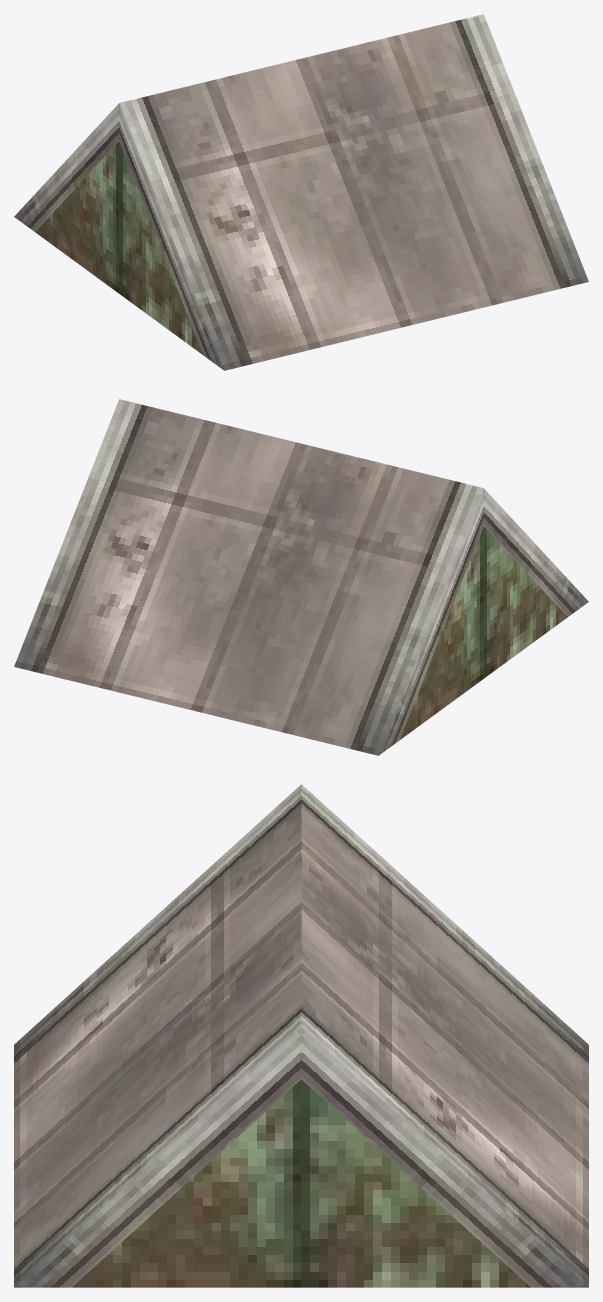
File: wall-b-roof.glb
The picture shows the model from 3 angles, top to bottom: view 1: azimuth 30°, elevation 25°; view 2: azimuth 150°, elevation 25°; view 3: azimuth 270°, elevation 25°; orthographic projection. The views are drawn at different scales.
Visible parts, largest first — view 1: wall-b-roof; view 2: wall-b-roof; view 3: wall-b-roof.
Part boxes in pixels (x1,y1,x2,y2): wall-b-roof: (14, 14, 588, 370); wall-b-roof: (14, 399, 588, 755); wall-b-roof: (14, 784, 588, 1287).
Bounding box in the file's own units: 1 × 0.5001 × 1.
Materials: 3 (3 with a texture image).
